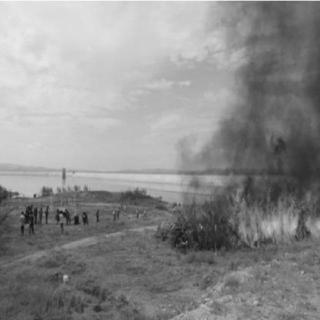other: (156, 193, 164, 204)
